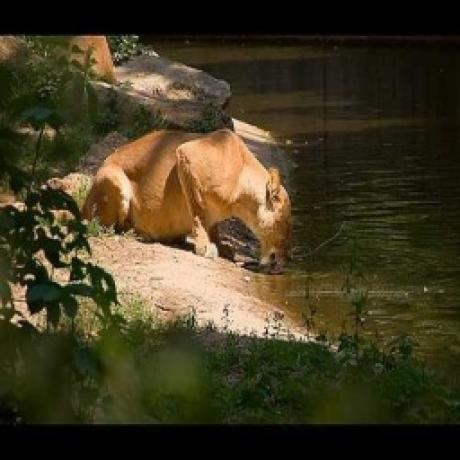Lion: (82, 118, 298, 270)
